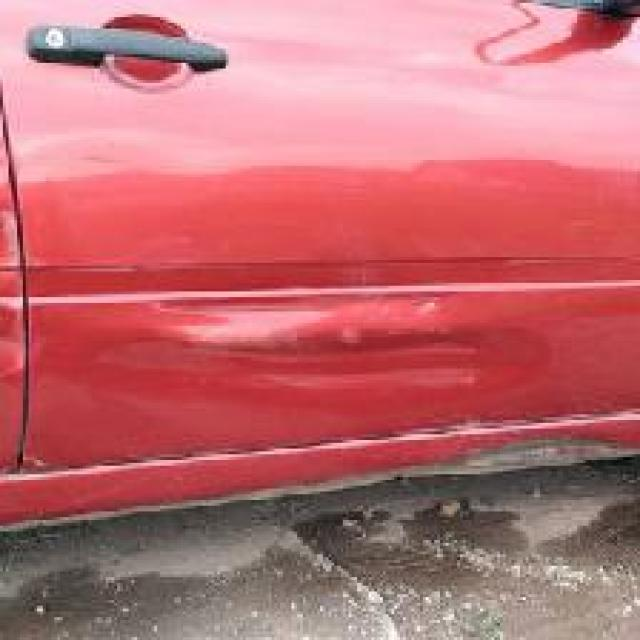door_dent_minor: (91, 306, 480, 409)
